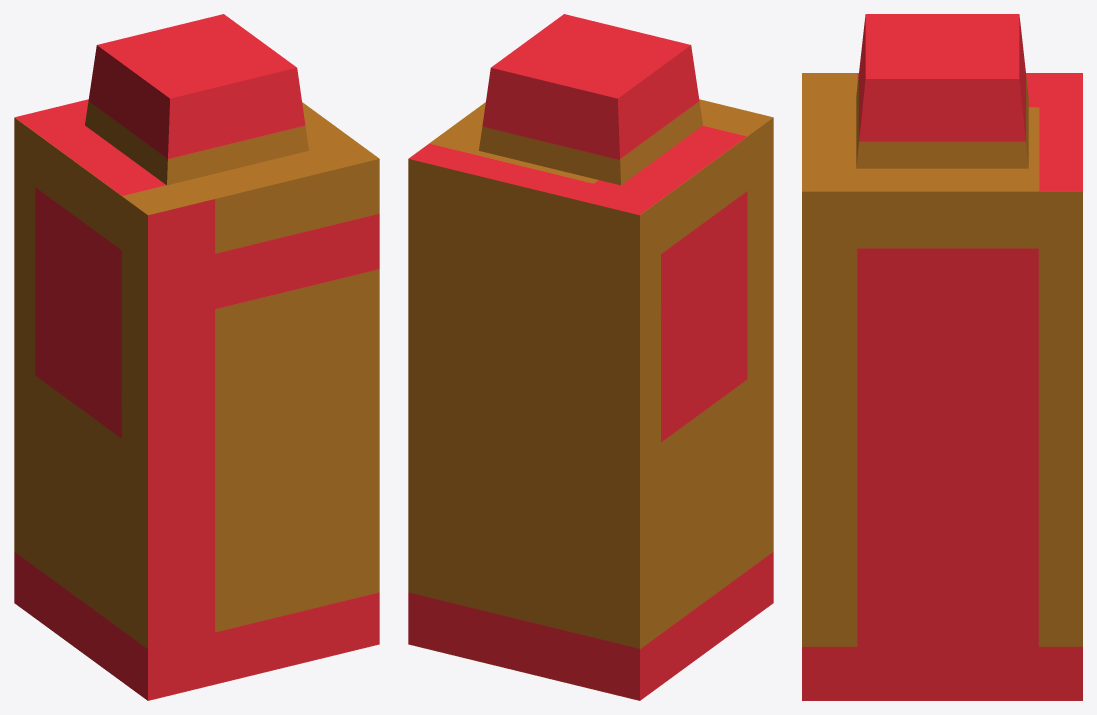
The model's file is smalls.fbx.
3 renders of one model, left to right at view 1: azimuth 30°, elevation 25°; view 2: azimuth 150°, elevation 25°; view 3: azimuth 270°, elevation 25°, orthographic. The views are drawn at different scales.
Parts seen in each view (by area): view 1: s2, s1; view 2: s2, s1; view 3: s2, s1.
Part boxes in pixels (box(x1,y1,x2,y2)): s2: box(14, 99, 379, 700); s1: box(85, 14, 308, 185); s2: box(408, 99, 773, 700); s1: box(479, 14, 702, 185); s2: box(802, 73, 1082, 700); s1: box(856, 14, 1028, 168).
Bounding box in the file's own units: 200 × 468 × 200.
Materials: 3 (3 with a texture image).
